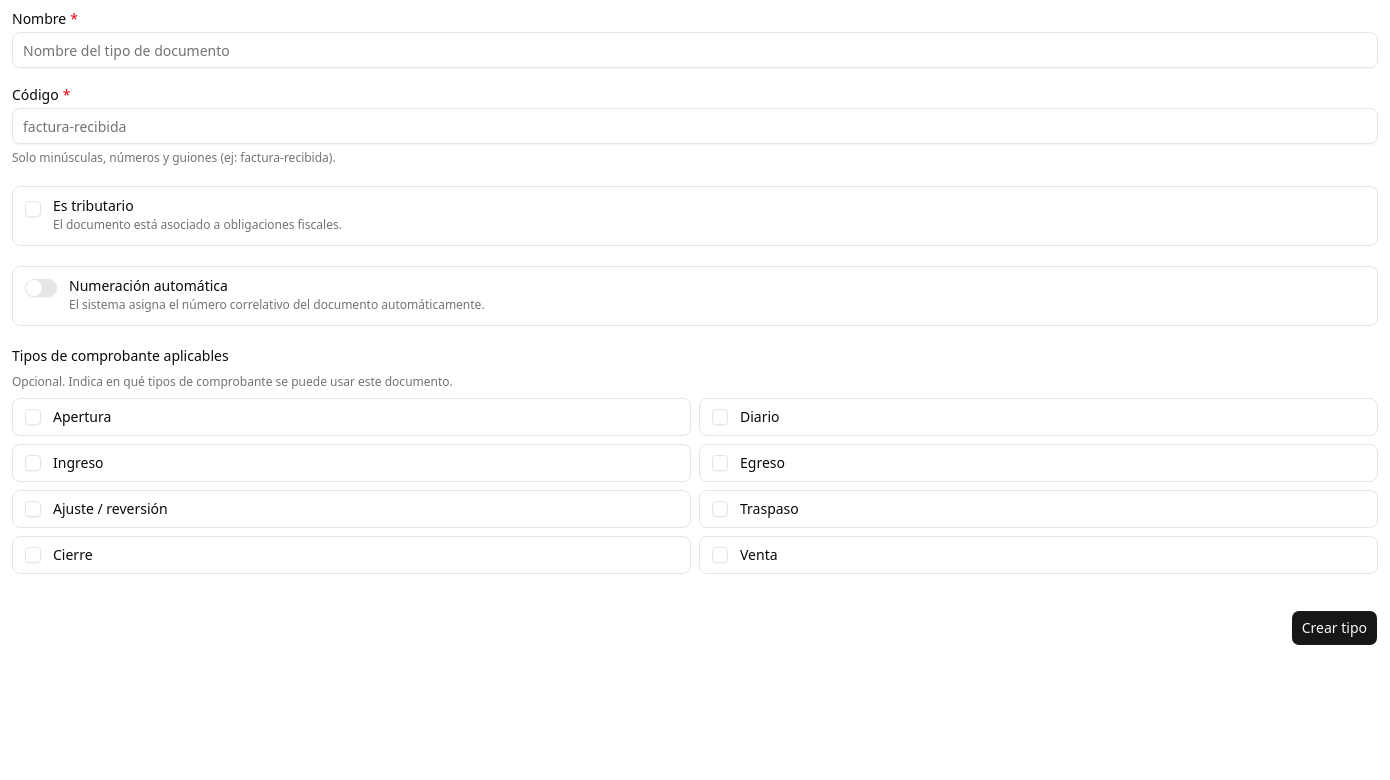
Test case: TipoDocumentoFisicoForm › en modo create activar numeración automática hace visible el campo número inicial
What coordinates should you click on to do the following:
click the switch named "numeración automática"
I would click on:
 (41, 288)
Its box is top-left (25, 279), bottom-right (57, 297).
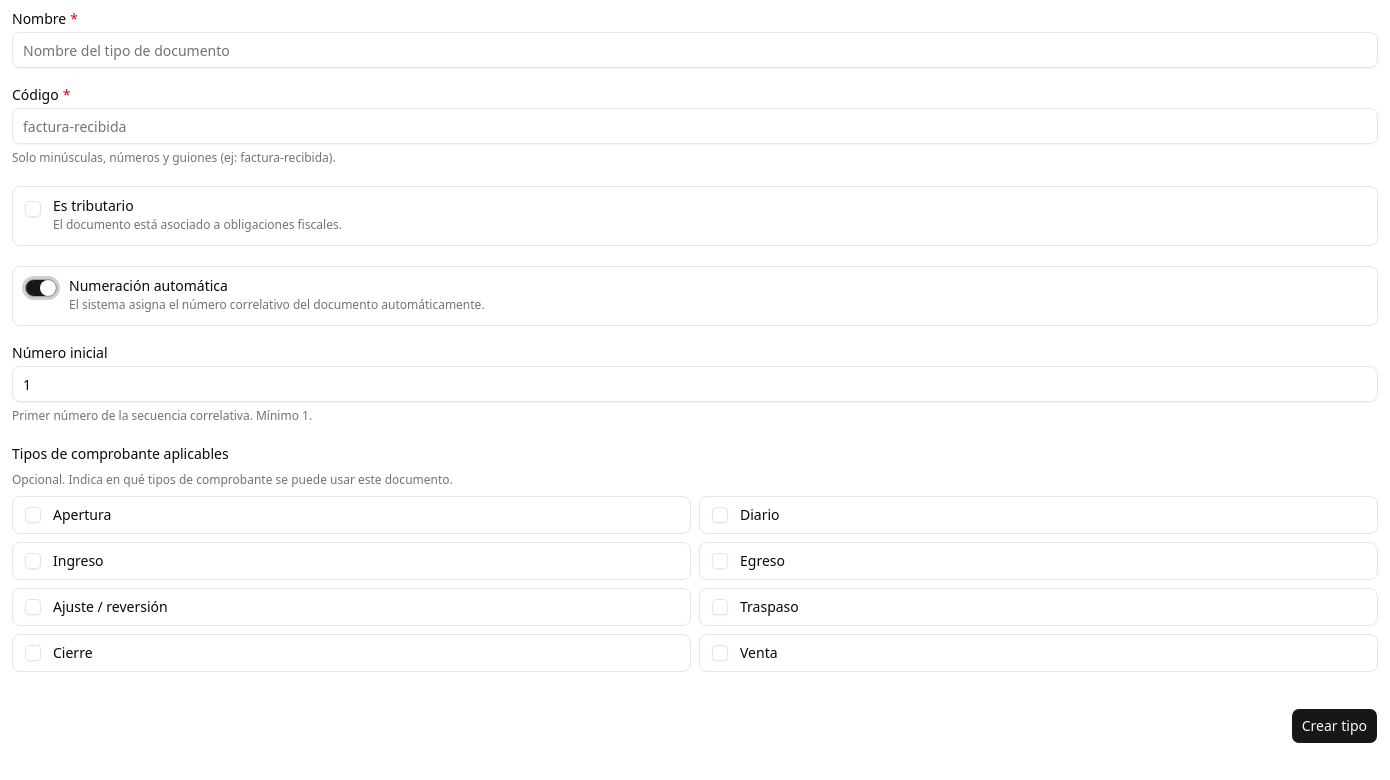
Expected: the number field labelled "Número inicial" is shown, top-left (12, 366), bottom-right (1378, 402)
